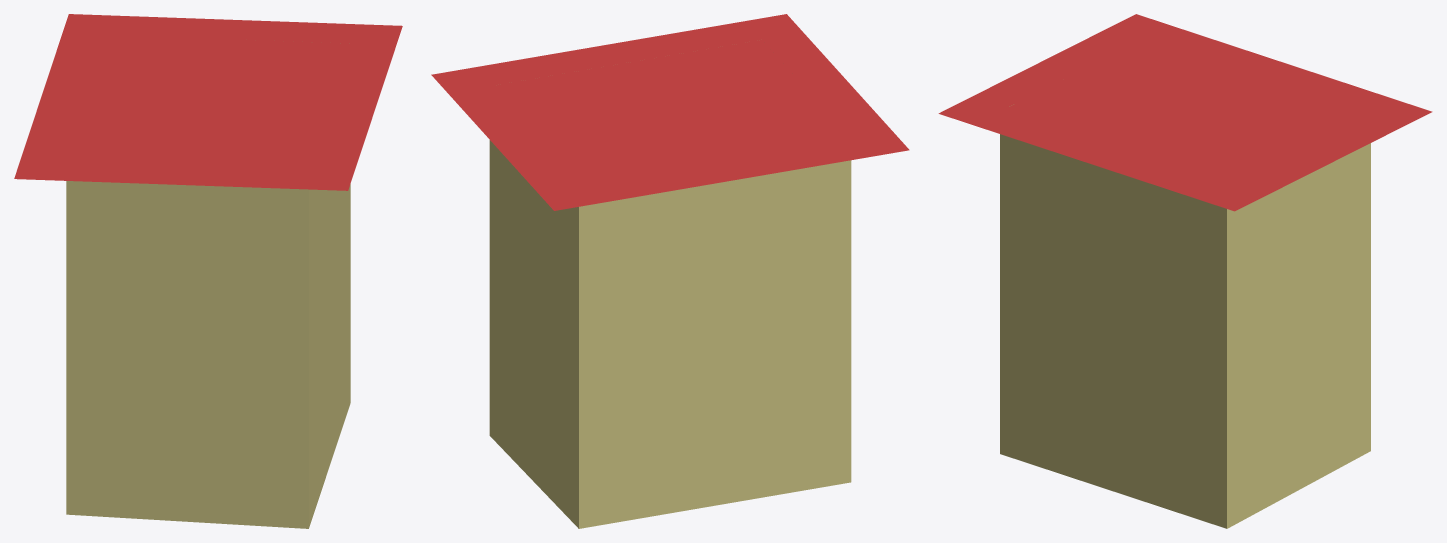
3 renders of one model, left to right at view 1: azimuth 30°, elevation 25°; view 2: azimuth 150°, elevation 25°; view 3: azimuth 270°, elevation 25°, orthographic. The views are drawn at different scales.
Parts seen in each view (by area): view 1: group_5, group_3, group_4; view 2: group_5, group_3, group_4; view 3: group_5, group_3, group_4.
Part boxes in pixels (left/top/right/bottom): group_5: left=66, top=43, right=350, bottom=528; group_3: left=14, top=14, right=401, bottom=190; group_4: left=188, top=26, right=402, bottom=190; group_5: left=489, top=140, right=851, bottom=528; group_3: left=431, top=14, right=909, bottom=210; group_4: left=431, top=14, right=806, bottom=134; group_5: left=1000, top=104, right=1370, bottom=528; group_3: left=939, top=14, right=1432, bottom=210; group_4: left=938, top=75, right=1297, bottom=211.
Size of the model in its own units: 8.26 by 8.42 by 6.45.
